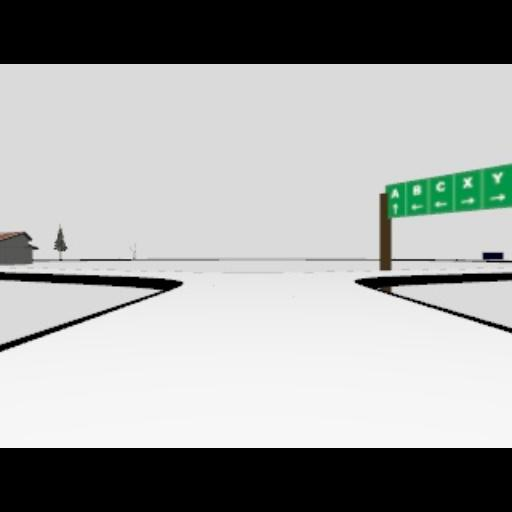A: (391, 188, 399, 198)
B: (412, 184, 422, 196)
C: (436, 180, 446, 194)
Left: (434, 200, 448, 208), (410, 204, 424, 210)
Right: (488, 193, 506, 201), (460, 197, 476, 205)
Straight: (392, 202, 398, 214)
X: (462, 176, 474, 188)
Y: (492, 172, 504, 184)
